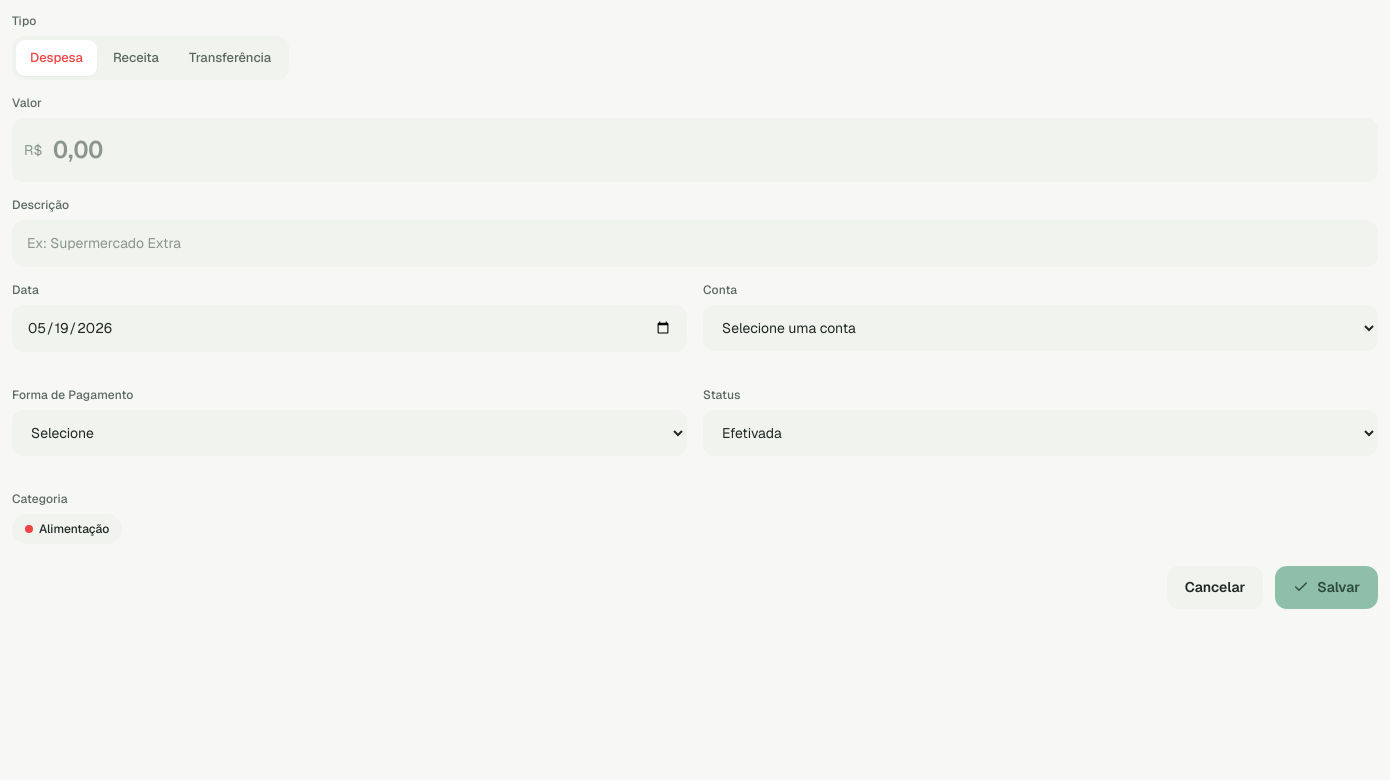
Test: TransactionForm › should show validation error when amount is empty
This screenshot has width=1390, height=780.
Step 1. Click the button "Salvar" → [1327, 587], box [1275,566,1378,608]
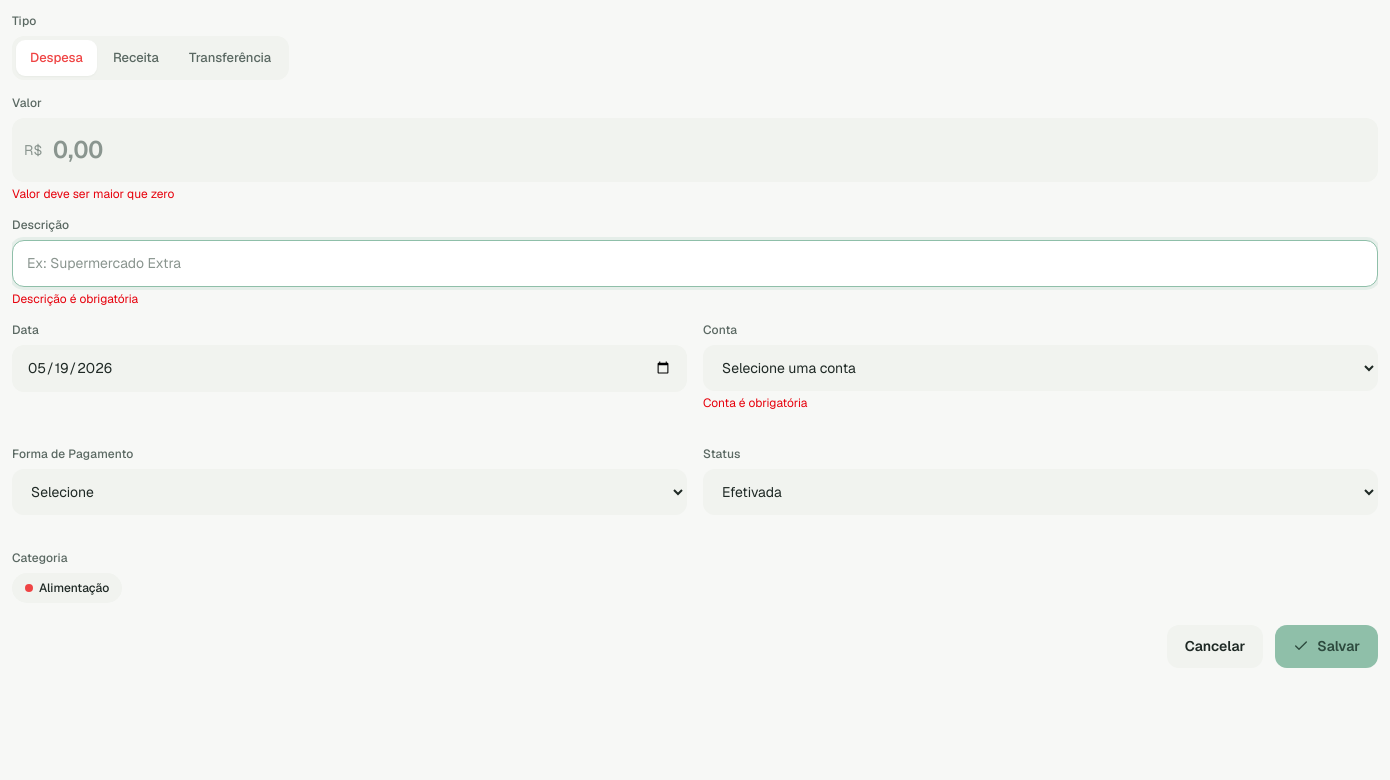
Result: the text "Valor deve ser maior que zero" is shown at [12,186,174,202]
